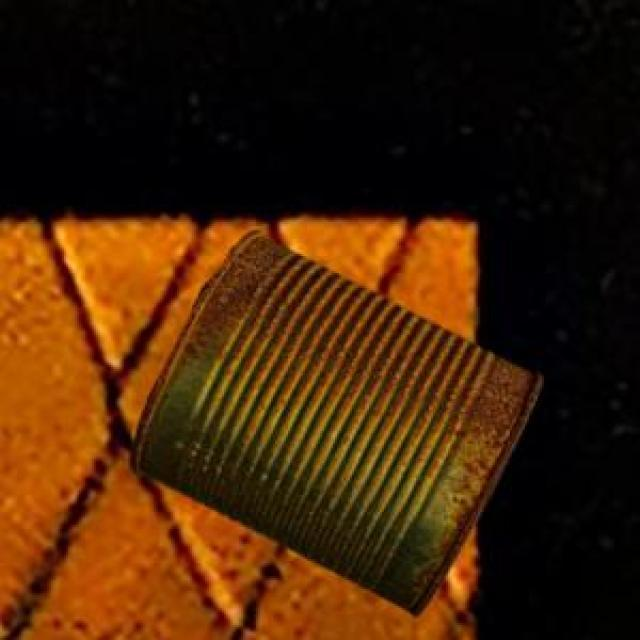Can: (129, 229, 539, 613)
